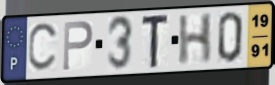0: (215, 9, 245, 65)
3: (106, 13, 135, 74)
C: (27, 21, 61, 74)
H: (177, 11, 215, 68)
P: (61, 19, 95, 73)
T: (140, 12, 171, 71)
